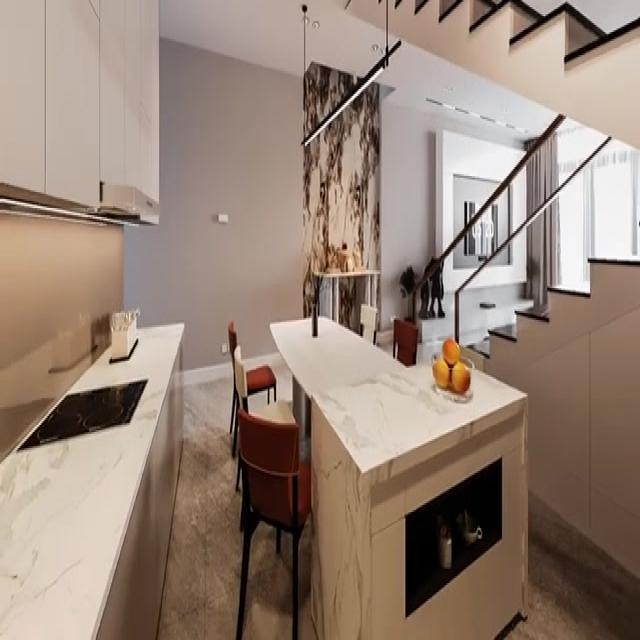obstacle: (269, 311, 529, 638), (392, 316, 418, 366), (359, 302, 378, 345)
